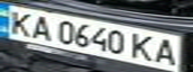0: (51, 18, 78, 46), (106, 27, 130, 56)
4: (90, 25, 109, 52)
6: (72, 21, 93, 48)
A: (151, 36, 184, 66), (27, 13, 57, 42)
K: (127, 32, 160, 63), (3, 8, 36, 36)
